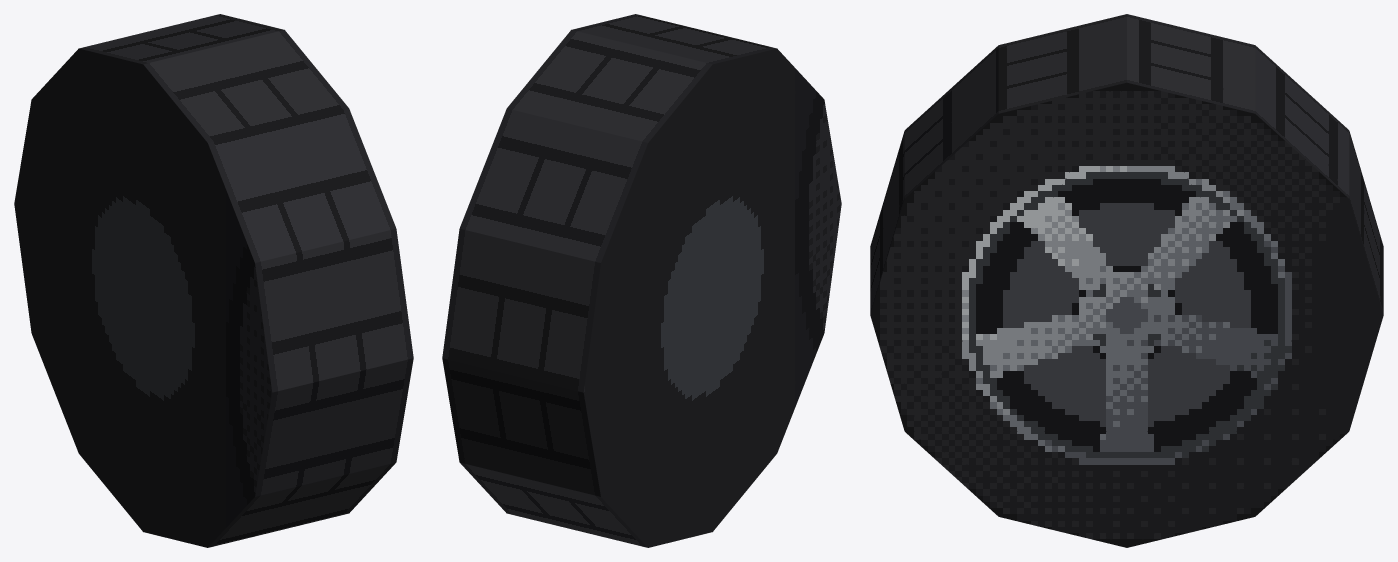
Rendered from wheel_stock.glb.
The picture shows the model from 3 angles, left to right: view 1: azimuth 30°, elevation 25°; view 2: azimuth 150°, elevation 25°; view 3: azimuth 270°, elevation 25°; orthographic projection.
Visible parts, largest first — view 1: wheel_stock; view 2: wheel_stock; view 3: wheel_stock.
Boxes of the visible parts, box(x1,y1,x2,y2) form: wheel_stock: box(14, 14, 413, 547); wheel_stock: box(442, 14, 841, 547); wheel_stock: box(870, 14, 1383, 547).
Size of the model in its own units: 0.185 by 0.5845 by 0.5845.
1 material, 1 textured.
